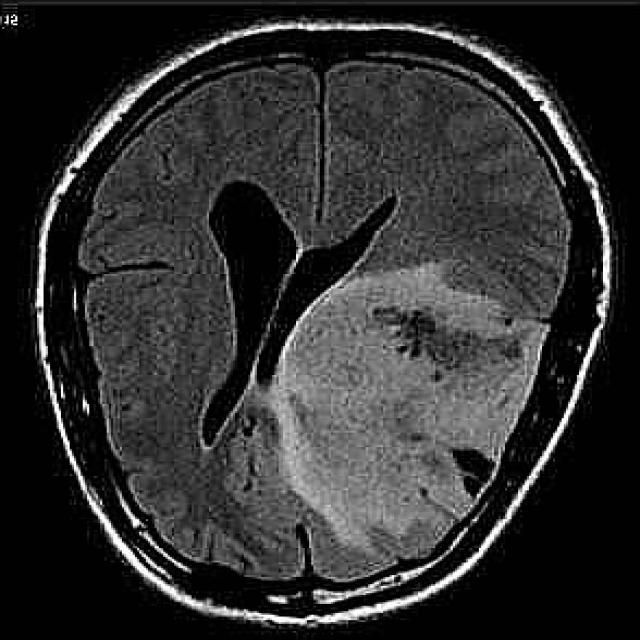Tumor-Cell: (308, 279, 516, 560)
